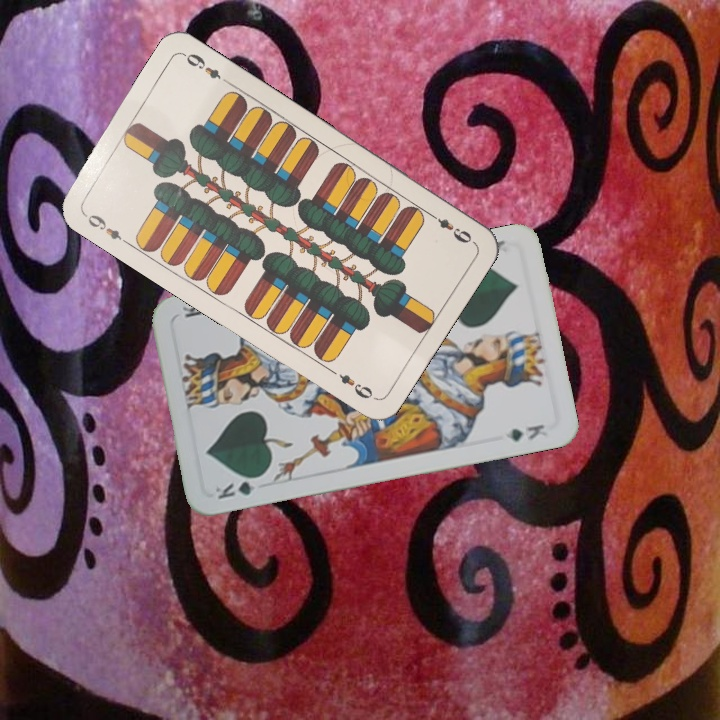E9: (79, 208, 131, 247), (424, 208, 476, 246)
GK: (211, 471, 267, 502)
